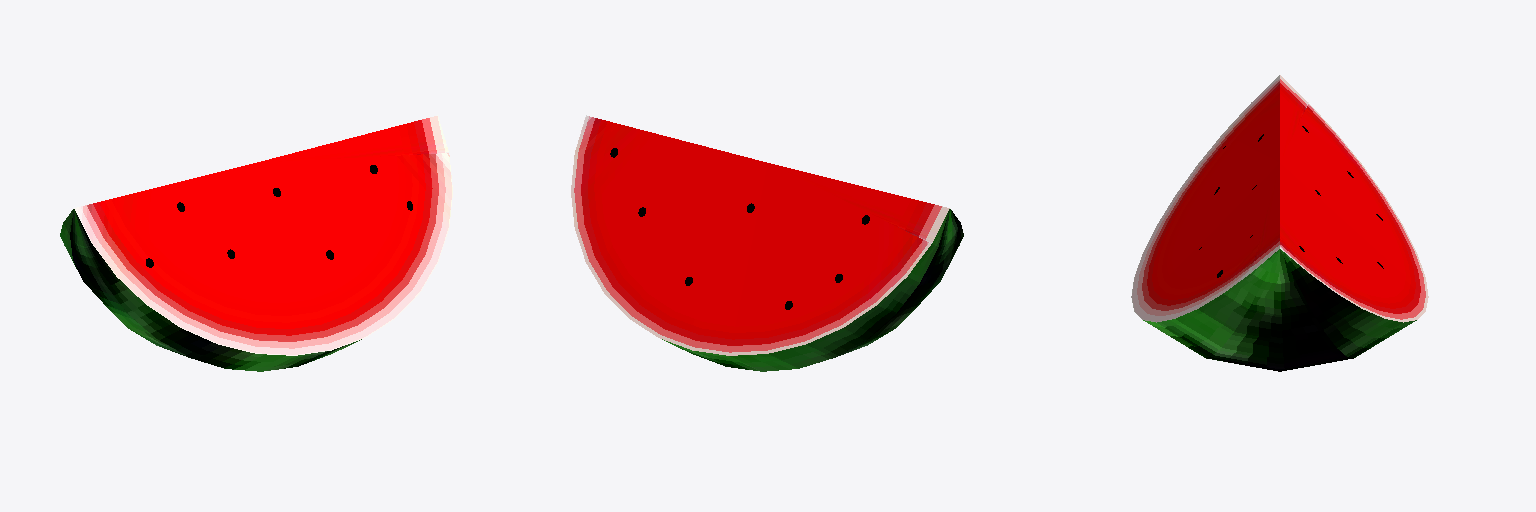
The picture shows the model from 3 angles: view 1: azimuth 30°, elevation 25°; view 2: azimuth 150°, elevation 25°; view 3: azimuth 270°, elevation 25°; orthographic projection.
Visible parts, largest first — view 1: pasted__textureEditorIsolateSelectSet group31, group31; view 2: pasted__textureEditorIsolateSelectSet group31, group31; view 3: pasted__textureEditorIsolateSelectSet group31, group31.
Part boxes in pixels (bbox=[...]): pasted__textureEditorIsolateSelectSet group31: bbox=[60, 115, 452, 371]; group31: bbox=[70, 165, 412, 357]; pasted__textureEditorIsolateSelectSet group31: bbox=[571, 115, 963, 371]; group31: bbox=[610, 148, 953, 357]; pasted__textureEditorIsolateSelectSet group31: bbox=[1131, 75, 1428, 357]; group31: bbox=[1199, 126, 1383, 371].
Bounding box in the file's own units: 3.86 × 1.95 × 2.73.
Materials: 1 (1 with a texture image).